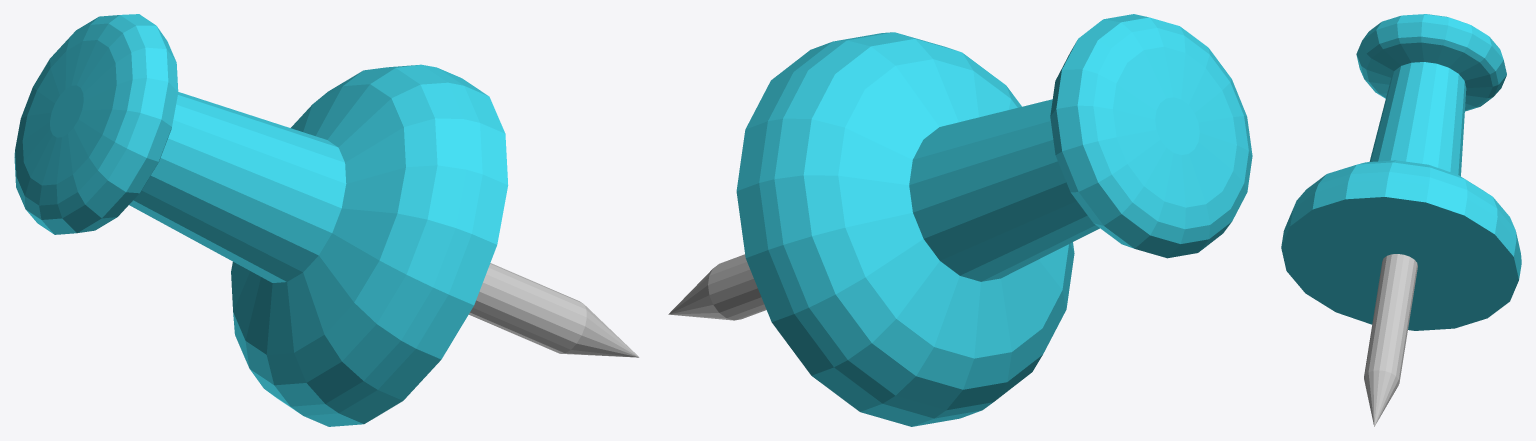
Rendered from Pin.gltf.
3 renders of one model, left to right at view 1: azimuth 30°, elevation 25°; view 2: azimuth 150°, elevation 25°; view 3: azimuth 270°, elevation 25°, orthographic. The views are drawn at different scales.
Visible parts, largest first — view 1: node-0; view 2: node-0; view 3: node-0.
Part boxes in pixels (<box>): node-0: <box>14,14,639,426</box>; node-0: <box>668,14,1252,426</box>; node-0: <box>1281,14,1521,426</box>.
Bounding box in the file's own units: 102003 × 71925 × 58648.
